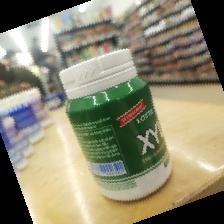Xylitol_green: (57, 49, 171, 202)
